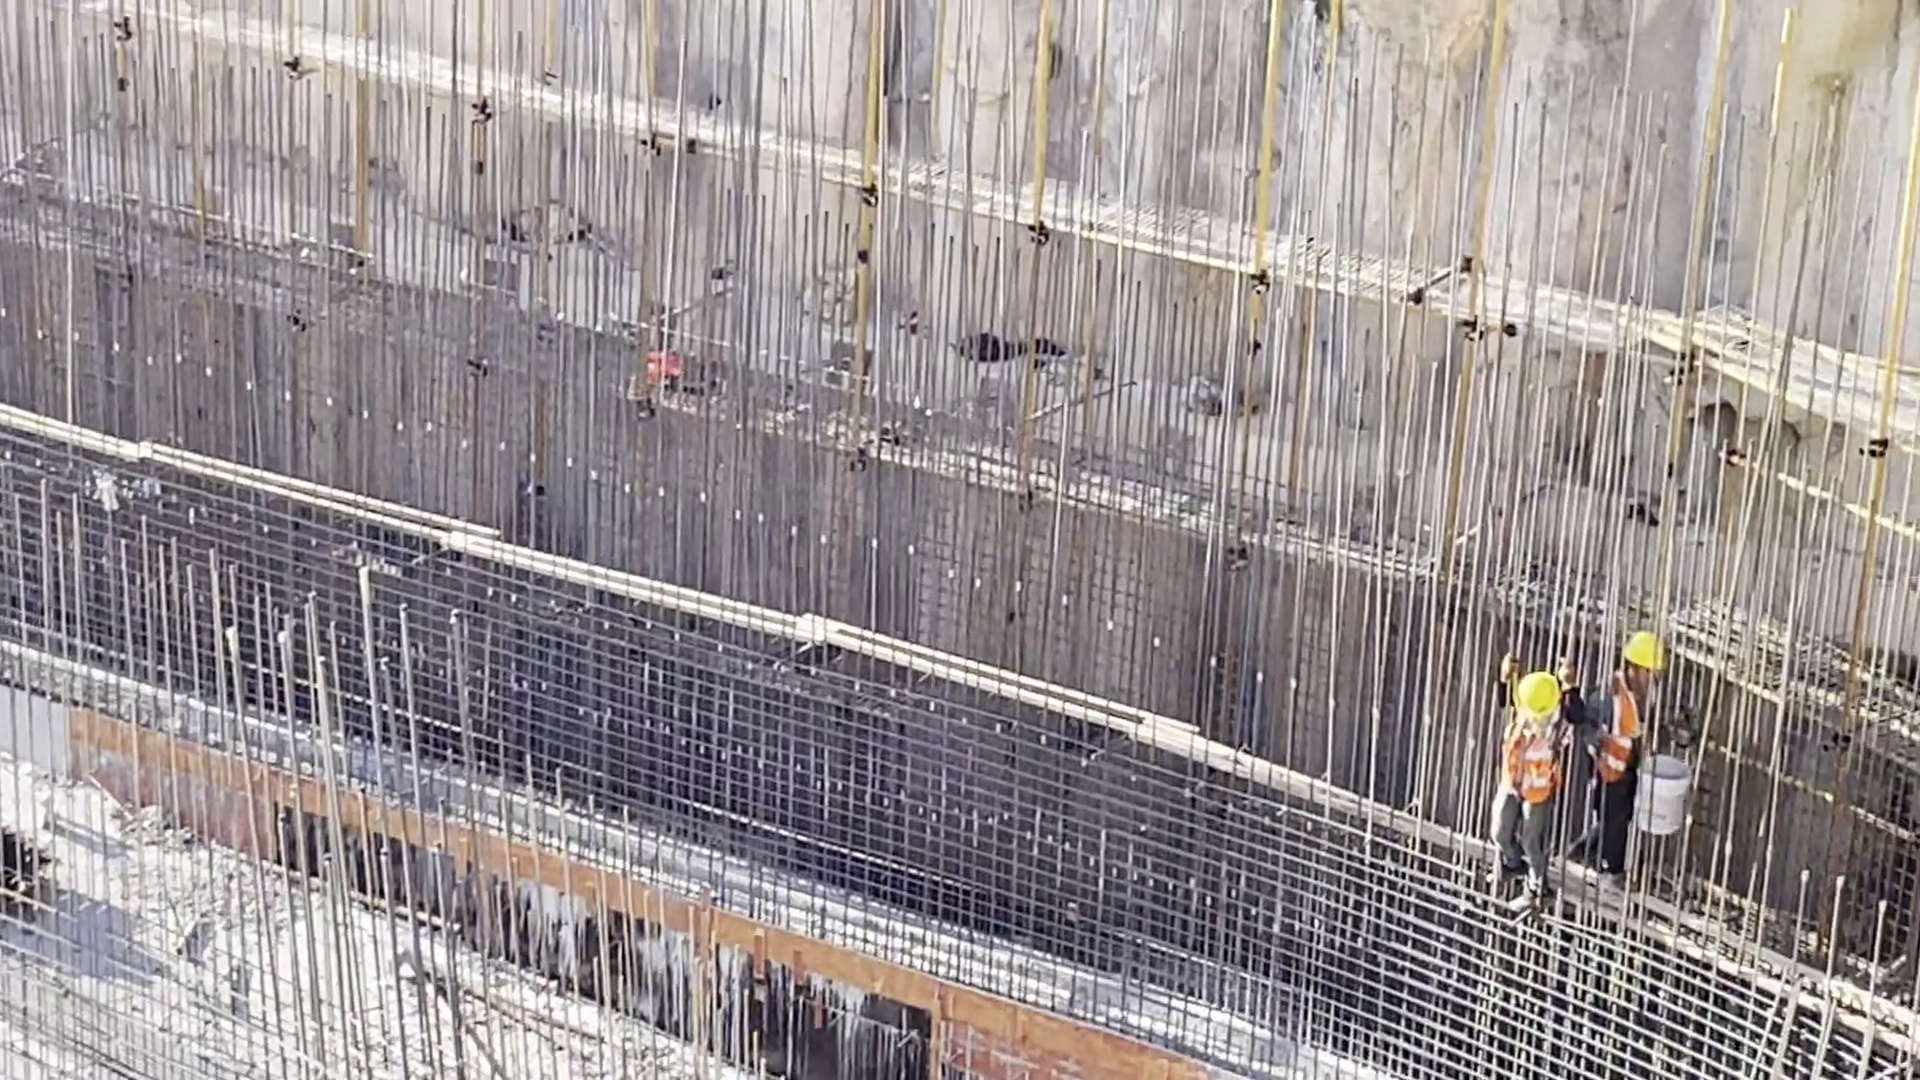helmet: (1515, 672, 1569, 720), (1625, 630, 1671, 665)
person: (1585, 637, 1695, 902), (1482, 661, 1566, 931)
vest: (1498, 725, 1561, 808), (1589, 680, 1639, 781)
